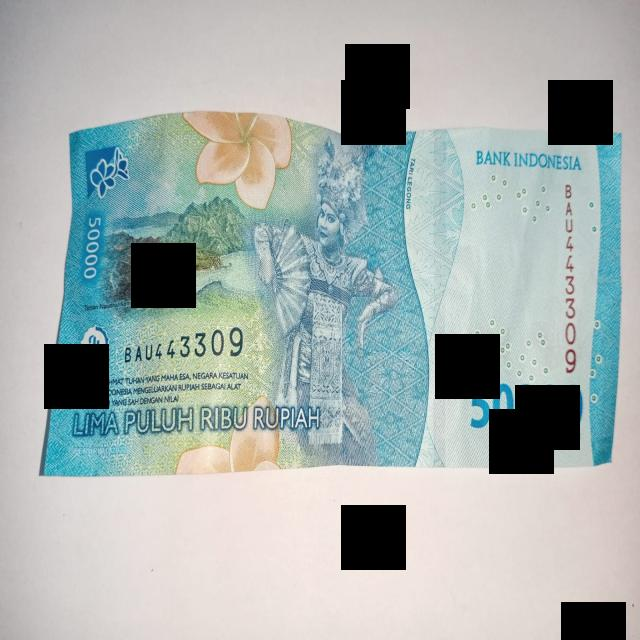lima puluh ribu rupiah: (41, 112, 621, 475)
